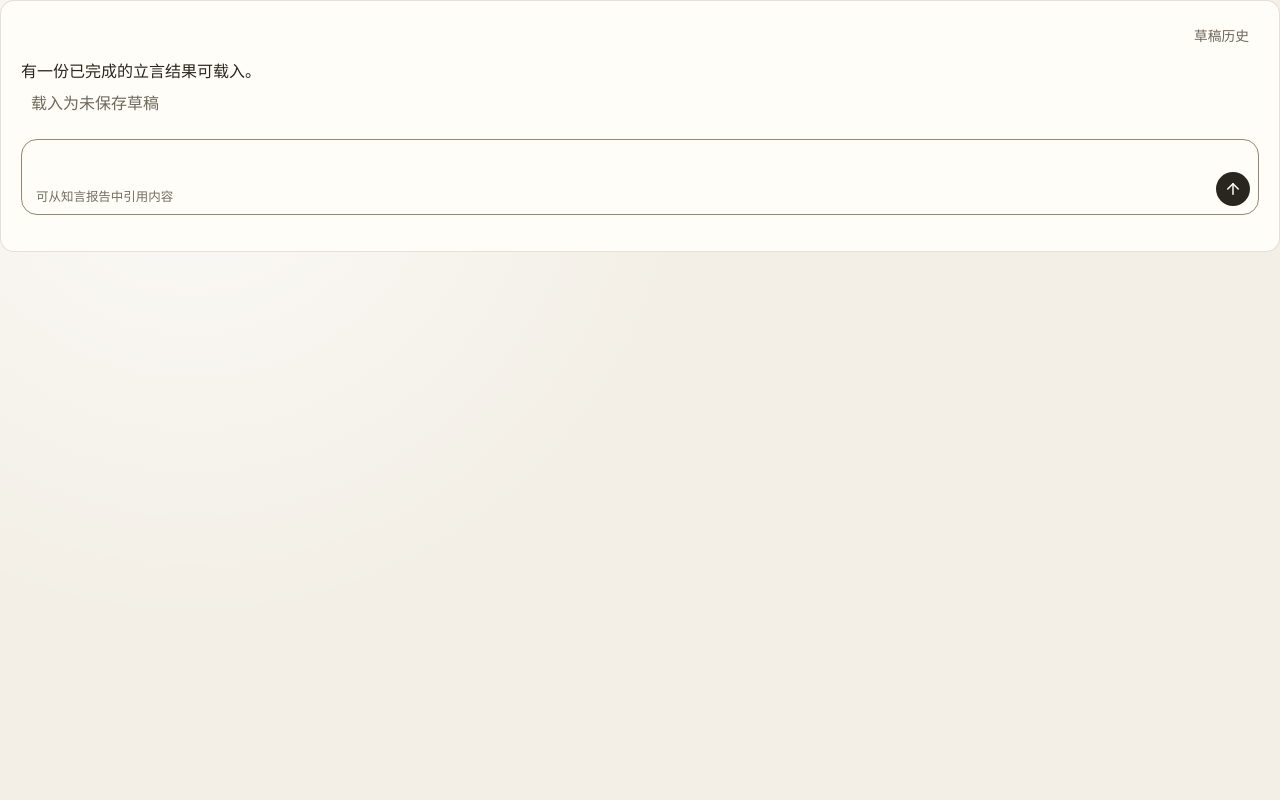
Test case: LiyanPanel › withholds publishing while the browser draft differs from the saved Revision
Click the button "草稿历史": (1222, 36) 1184,21 -> 1259,51
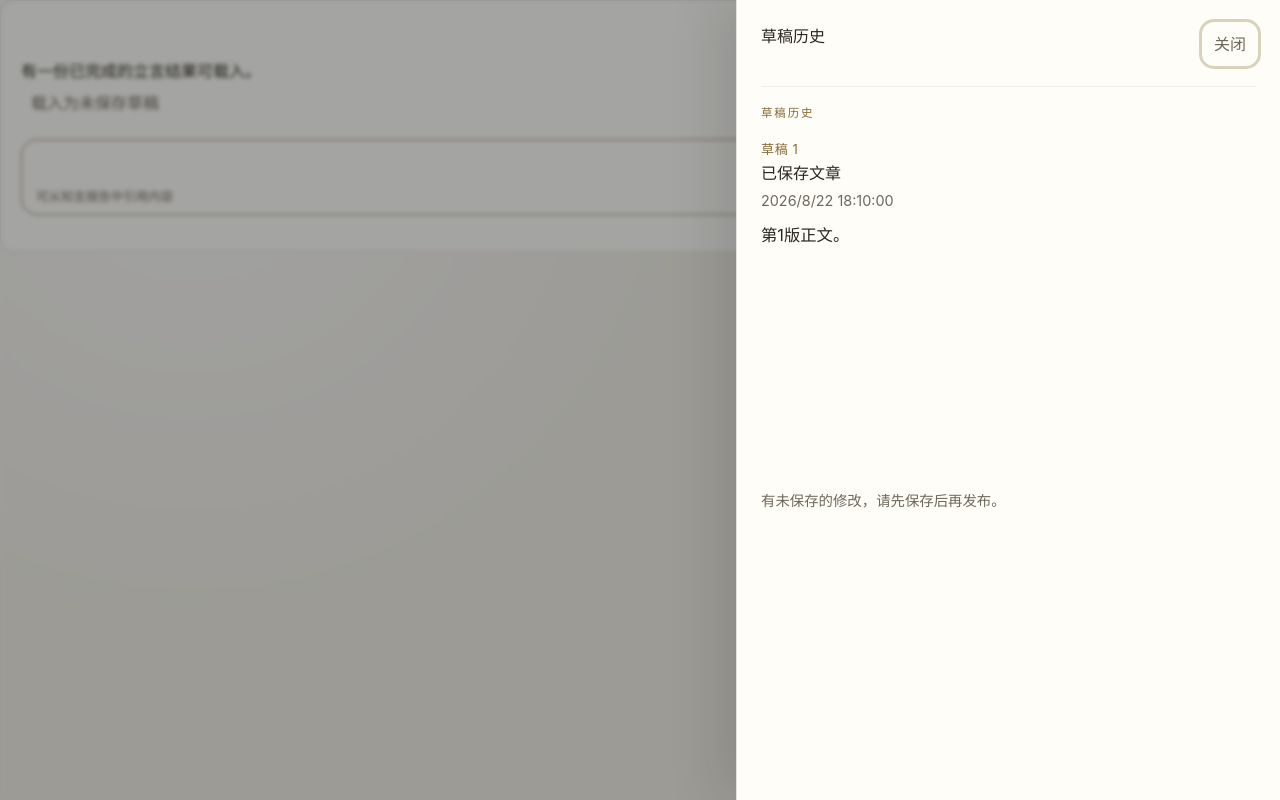
Result: the text "有未保存的修改，请先保存后再发布。" is shown at 761,492 -> 1006,509
